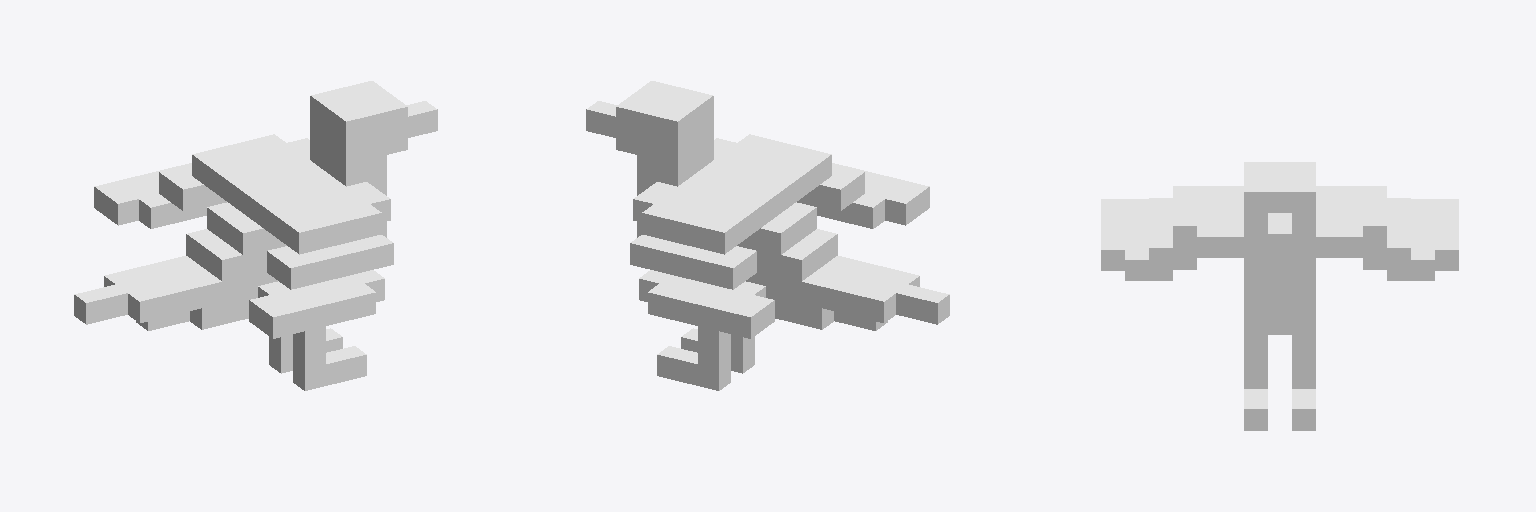
The model's file is Gull@Flying-02.obj.
3 renders of one model, left to right at view 1: azimuth 30°, elevation 25°; view 2: azimuth 150°, elevation 25°; view 3: azimuth 270°, elevation 25°, orthographic.
Size of the model in its own units: 17 by 12 by 15.